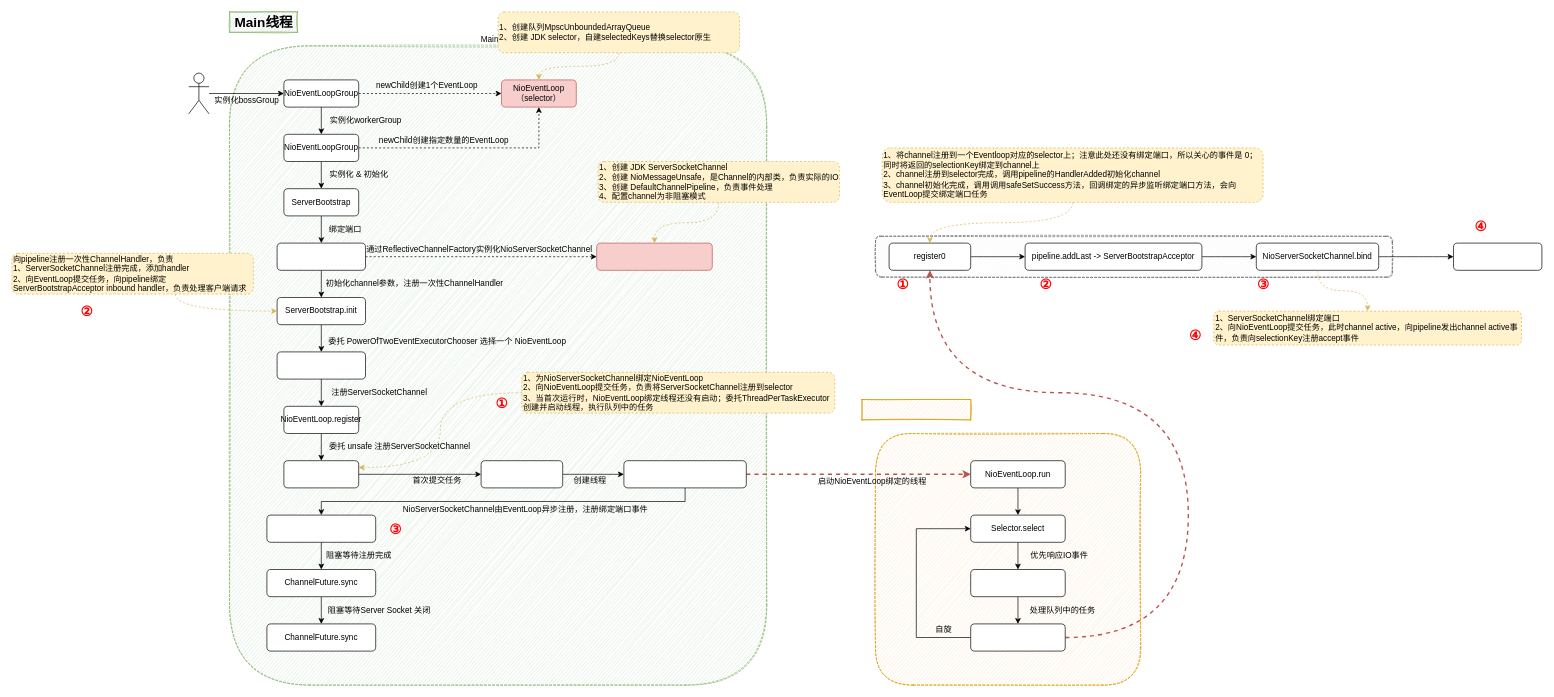
Image size: 1554x697. Some labels were removed from this diagram. Each missing label, with the box of its shape:
ChannelFuture .addListener: (266, 514, 376, 542)
EventLoop线程: (861, 399, 971, 420)
NioEventLoop.execute: (480, 460, 563, 488)
NioEventLoopGroup.next: (276, 351, 366, 379)
NioMessageUnsafe .register: (283, 460, 359, 488)
NioServerSocketChannel: (596, 242, 712, 270)
processSelectedKeys: (970, 569, 1065, 597)
runAllTasks: (970, 623, 1065, 651)
ServerBootstrap.bind: (276, 242, 366, 270)
ThreadPerTaskExecutor .execute: (623, 460, 746, 488)
unsafe.beginRead: (1453, 242, 1542, 270)
